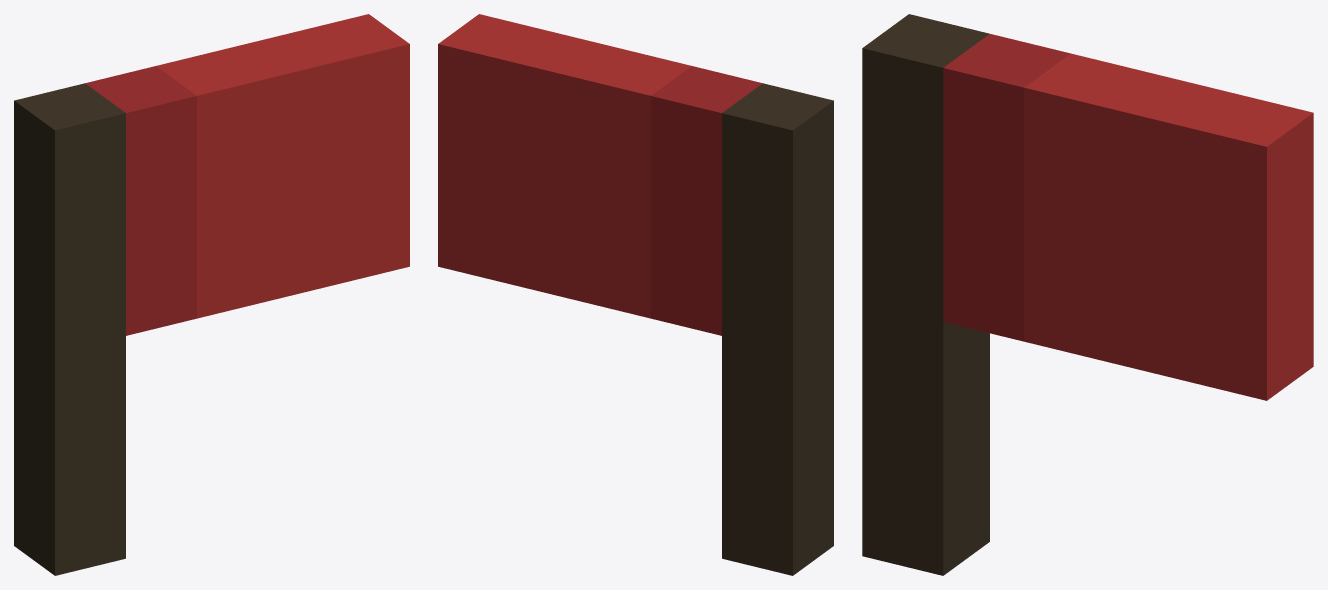
File: overworld-5-props_flagred.obj
The picture shows the model from 3 angles, left to right: view 1: azimuth 30°, elevation 25°; view 2: azimuth 150°, elevation 25°; view 3: azimuth 330°, elevation 25°; orthographic projection. The views are drawn at different scales.
Parts seen in each view (by area): view 1: props_flagred; view 2: props_flagred; view 3: props_flagred.
Part boxes in pixels (x1,y1,x2,y2): props_flagred: (14, 14, 409, 575); props_flagred: (438, 14, 833, 575); props_flagred: (862, 14, 1313, 575).
Size of the model in its own units: 0.5 by 0.6 by 0.1.
1 material, 1 textured.
